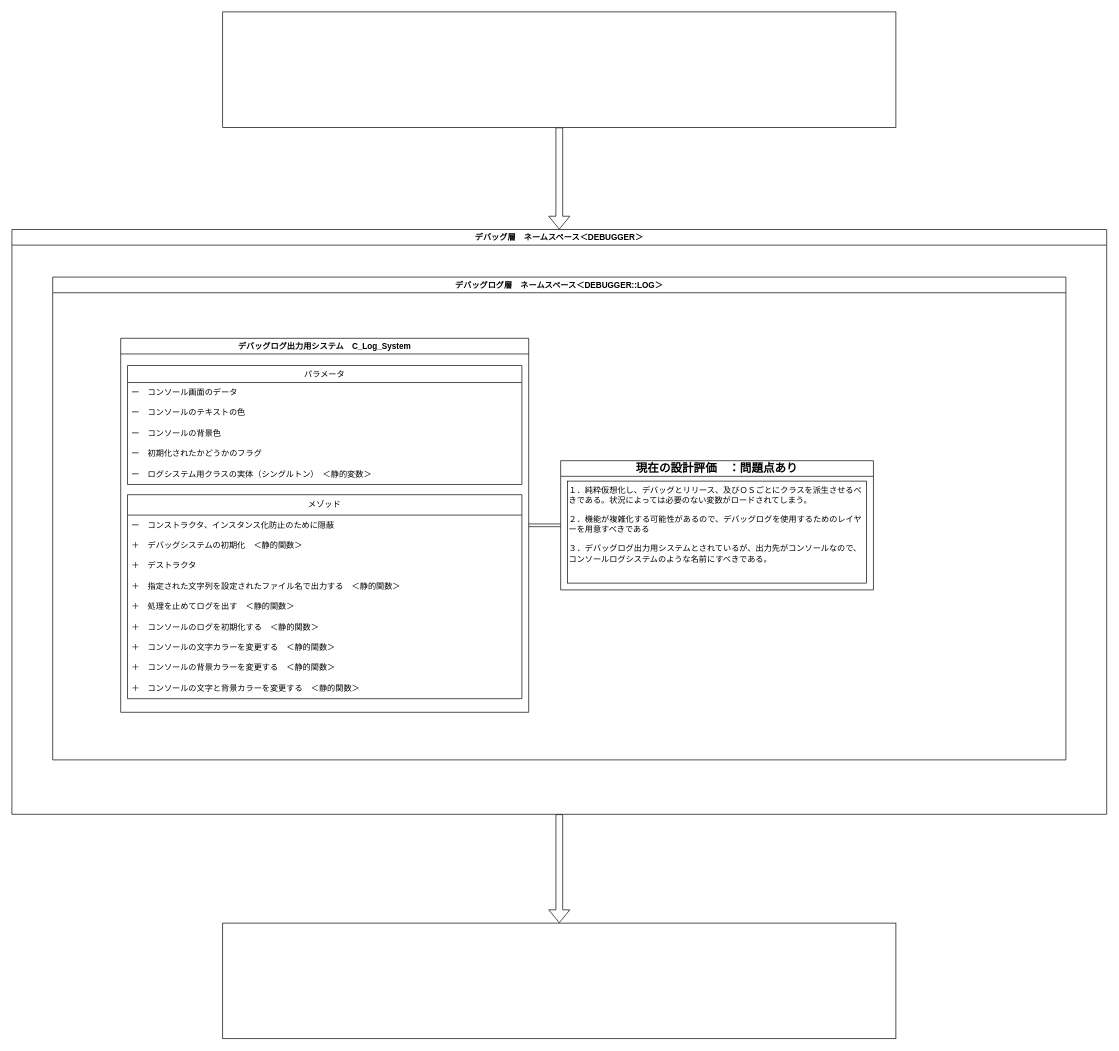
Some shapes in this 1119 by 1051 pixel diagram are drawn without their labels. Here are the shapes that lost their labels. From the top down, the centre of each, then its label:
At [559,69]: "上位層".
At [559,980]: "OS用のライブラリなど".
